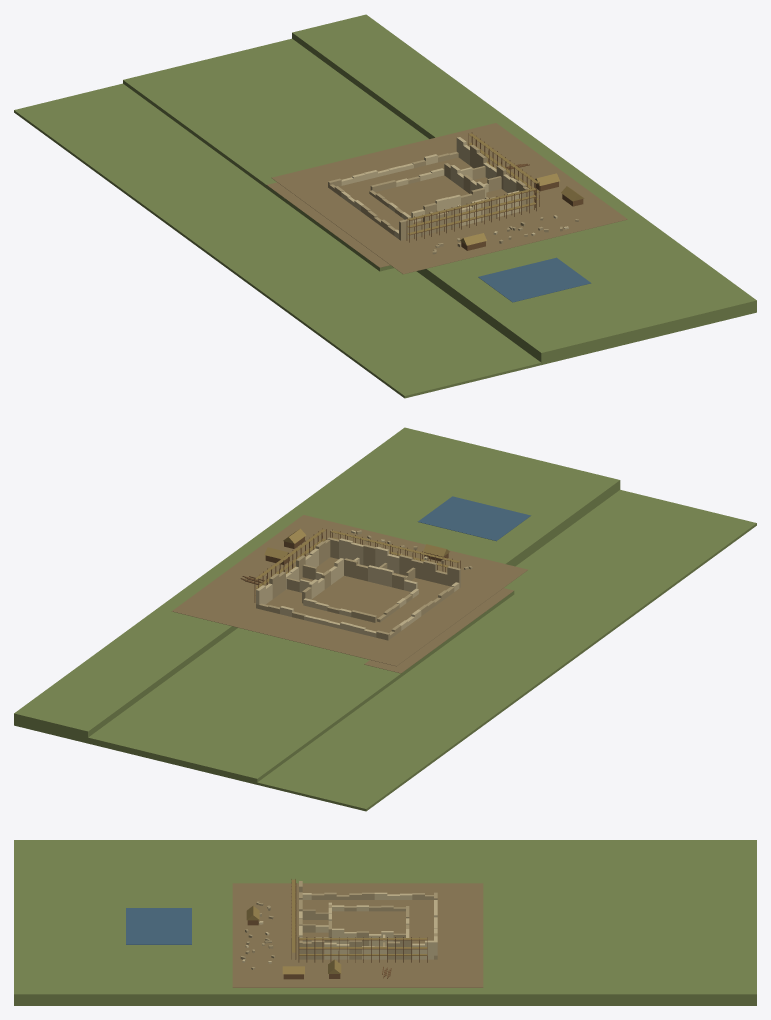
File: chatsworth-b10.glb
3 views of the same model, one above another, from view 1: azimuth 30°, elevation 25°; view 2: azimuth 150°, elevation 25°; view 3: azimuth 270°, elevation 25° (orthographic). The views are drawn at different scales.
Bounding box in the file's own units: 15.2 × 1.55 × 29.2.
